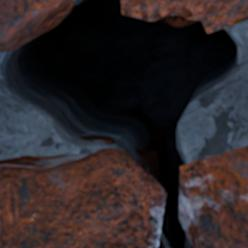broken_brick: (0, 148, 144, 247), (181, 144, 247, 247), (122, 0, 247, 31), (0, 0, 71, 52)
crack: (0, 0, 247, 247)
